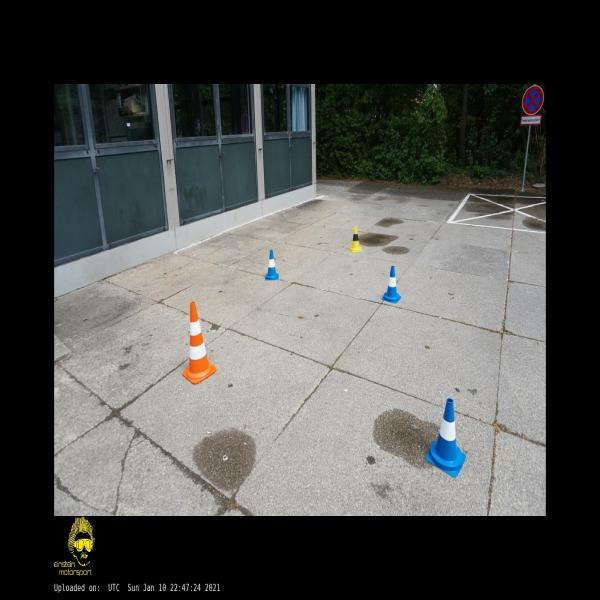blue_cone: (425, 398, 466, 477), (382, 266, 401, 304), (265, 250, 279, 280)
large_orange_cone: (182, 301, 216, 385)
yellow_cone: (349, 226, 363, 253)
